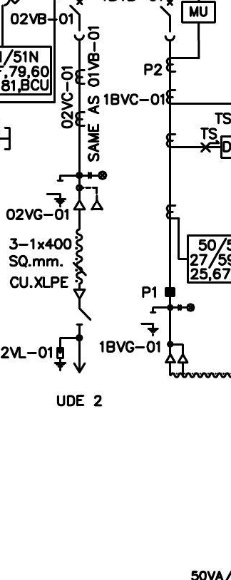22_ds_la_out: (54, 307, 92, 374)
22_gs: (45, 179, 67, 208), (140, 311, 159, 337)
22_ll: (87, 170, 107, 181), (177, 303, 196, 313)
MU: (181, 0, 216, 24)
terminator_double: (164, 343, 189, 364)
terminator_single: (72, 288, 87, 300)
terminator_w_future: (73, 186, 104, 211)
